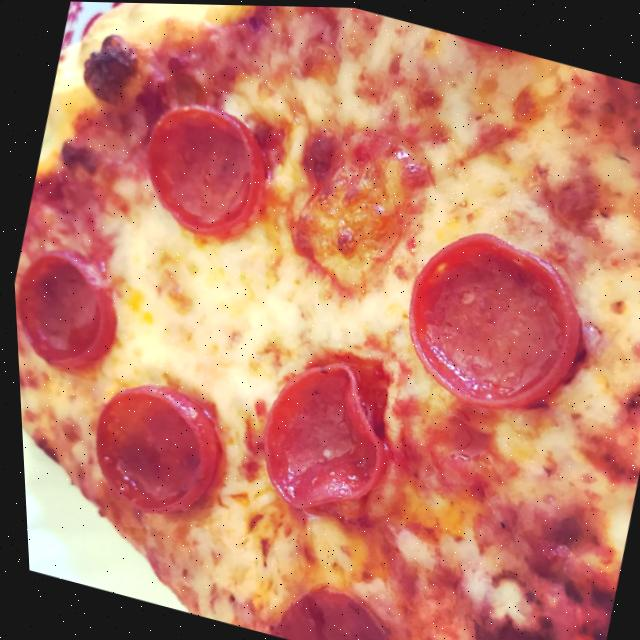pepperoni: (379, 205, 605, 428), (261, 106, 446, 310), (230, 338, 403, 530), (66, 368, 236, 530), (119, 85, 280, 249), (10, 234, 131, 384), (259, 571, 415, 640), (443, 614, 595, 640), (428, 24, 523, 54)
pizza: (0, 0, 640, 640)
